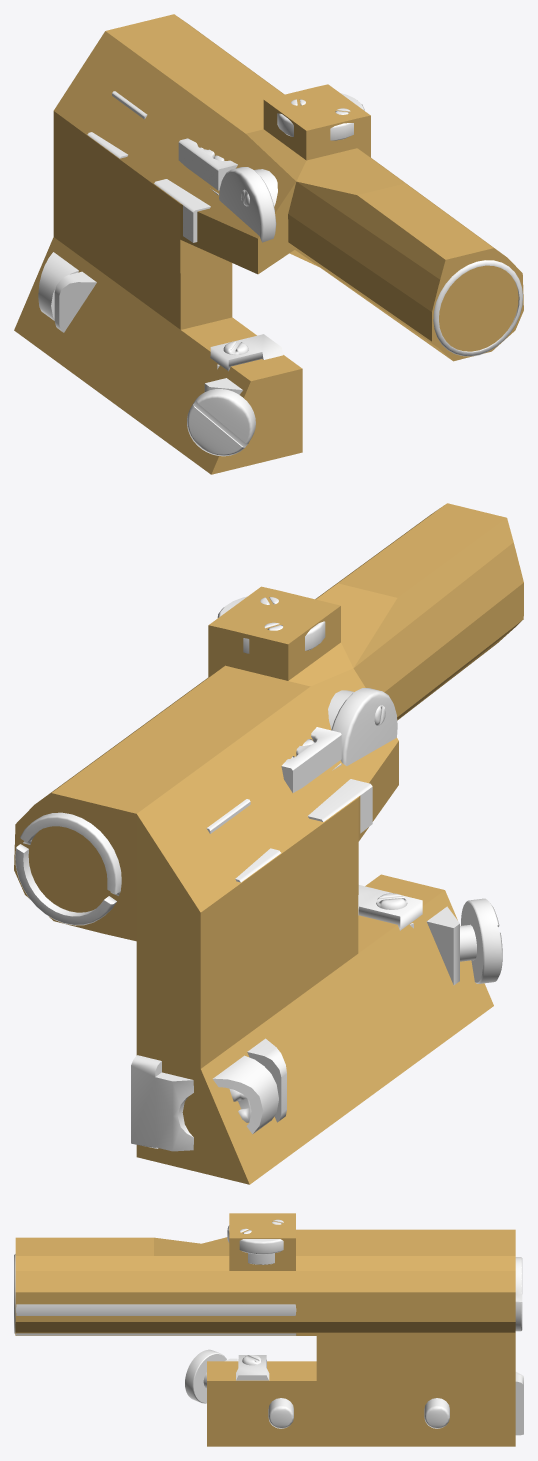
File: PU scope_2.fbx
3 renders of one model, top to bottom at view 1: azimuth 30°, elevation 25°; view 2: azimuth 150°, elevation 25°; view 3: azimuth 270°, elevation 25°, orthographic. The views are drawn at different scales.
Visible parts, largest first — view 1: UTM_mosin_firegeo, PUScope_LOD0, PUScopeBase_LOD0; view 2: UTM_mosin_firegeo, PUScope_LOD0, PUScopeBase_LOD0; view 3: UTM_mosin_firegeo, PUScope_LOD0, PUScopeBase_LOD0.
Boxes of the visible parts, bbox=[...] form: UTM_mosin_firegeo: bbox=[14, 14, 523, 474]; PUScope_LOD0: bbox=[54, 91, 523, 369]; PUScopeBase_LOD0: bbox=[38, 252, 283, 456]; UTM_mosin_firegeo: bbox=[14, 503, 523, 1184]; PUScope_LOD0: bbox=[15, 596, 413, 1122]; PUScopeBase_LOD0: bbox=[131, 885, 502, 1151]; UTM_mosin_firegeo: bbox=[15, 1213, 515, 1446]; PUScope_LOD0: bbox=[14, 1219, 522, 1335]; PUScopeBase_LOD0: bbox=[185, 1349, 523, 1435].
Size of what is drawn, in the model's own units: 6.45 by 9.22 by 17.71.
